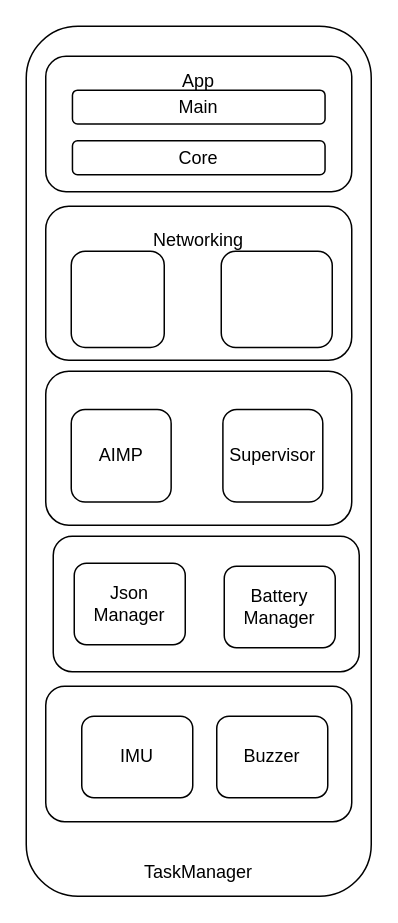
The diagram is 398 pixels wide and 923 high, and some of its shapes have lost their labels. The box of each missing label's shape, as (x1, y1, x2, y2) in pixels:
Data: (44, 370, 352, 525)
EspNow Handler: (70, 250, 164, 347)
Hardware: (44, 685, 352, 822)
Services: (52, 535, 359, 672)
Websocket Handler: (220, 250, 332, 347)
